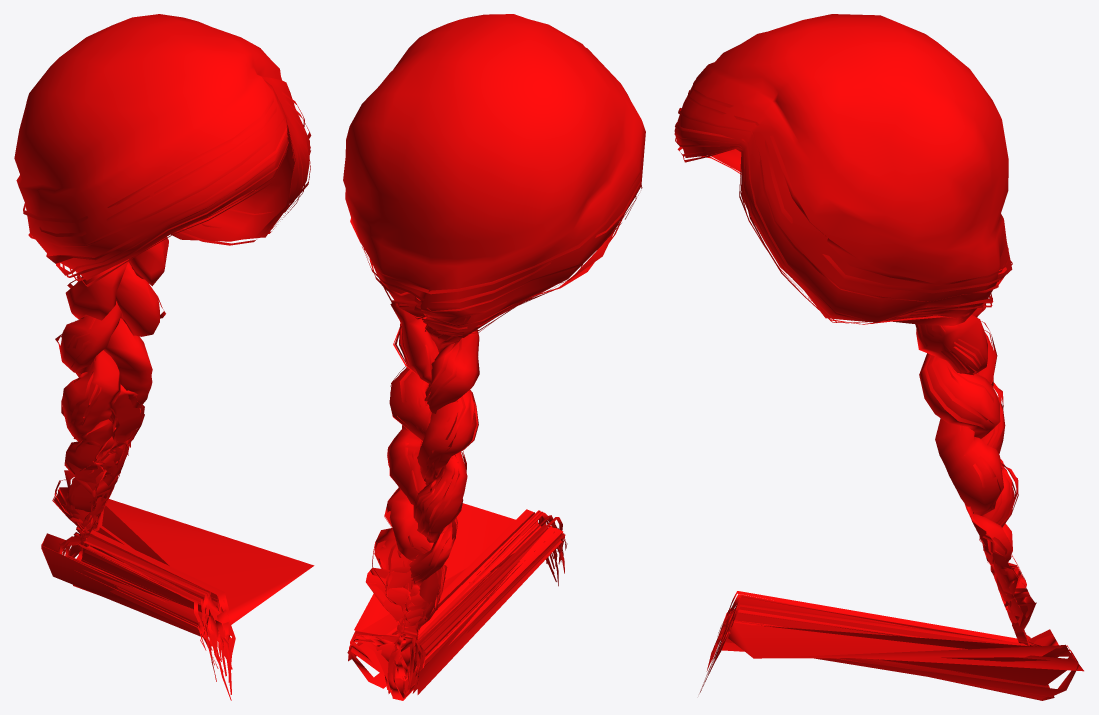
File: braid01_F.glb
3 renders of one model, left to right at view 1: azimuth 30°, elevation 25°; view 2: azimuth 150°, elevation 25°; view 3: azimuth 270°, elevation 25°, orthographic. The views are drawn at different scales.
Bounding box in the file's own units: 0.2074 × 0.4983 × 0.2751.
1 material, 1 textured.
